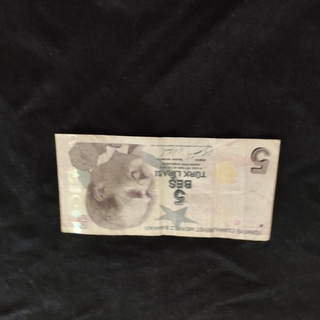5TLFront: (52, 132, 282, 242)
